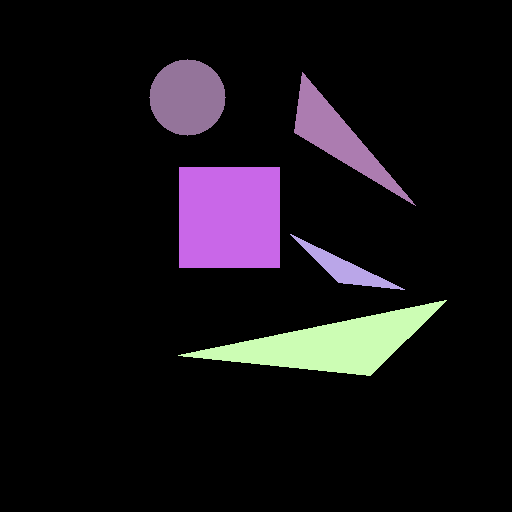circle: (149, 59, 225, 135)
square: (179, 167, 279, 267)
triangle: (178, 300, 446, 375), (294, 72, 415, 205), (290, 234, 404, 289)
